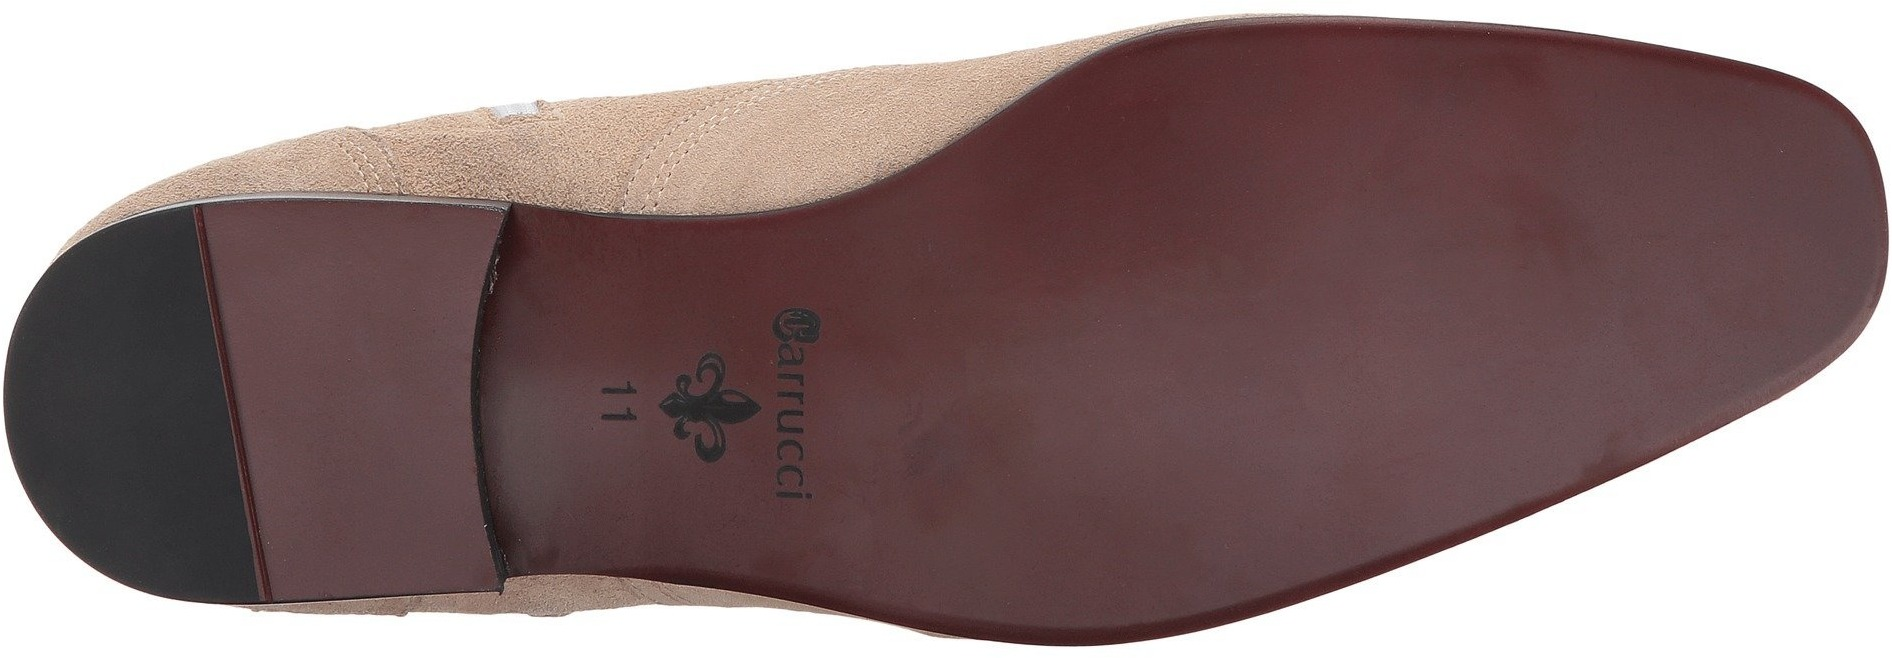exclude: (475, 128, 874, 624)
other: (1329, 37, 1690, 438), (995, 142, 1329, 462), (247, 231, 463, 452), (37, 310, 230, 505), (1695, 135, 1871, 322), (900, 466, 1068, 625), (1075, 465, 1222, 615), (281, 460, 421, 592)
